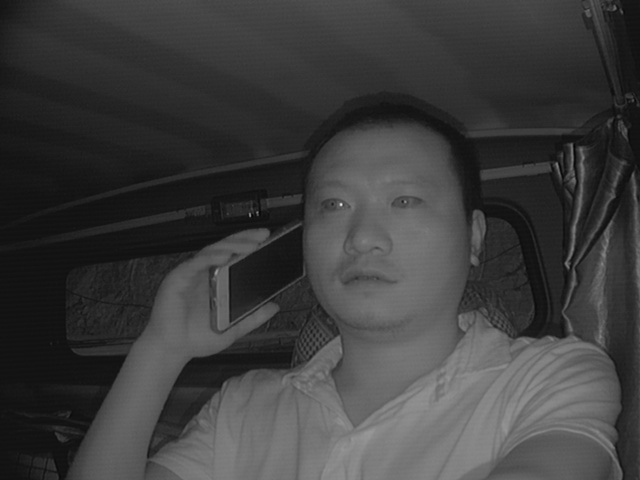hand: (158, 227, 281, 368)
